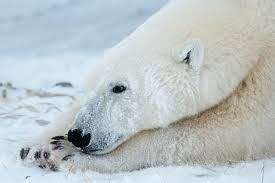PolarBear: (24, 0, 275, 174)
